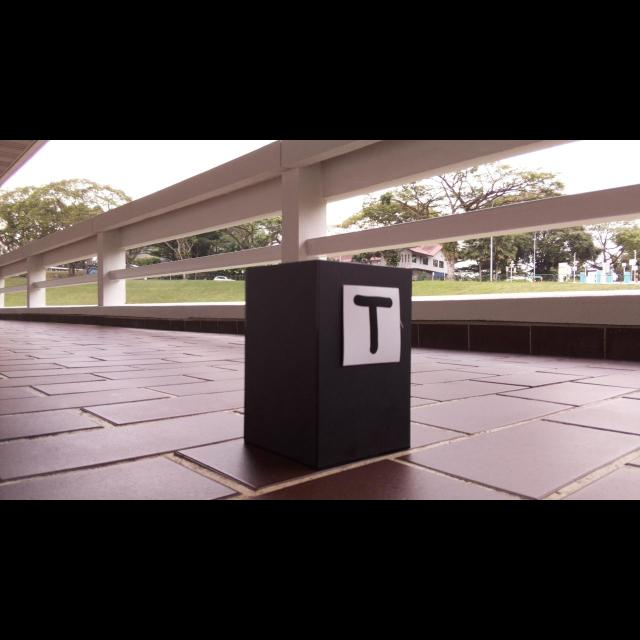T: (354, 295, 393, 354)
